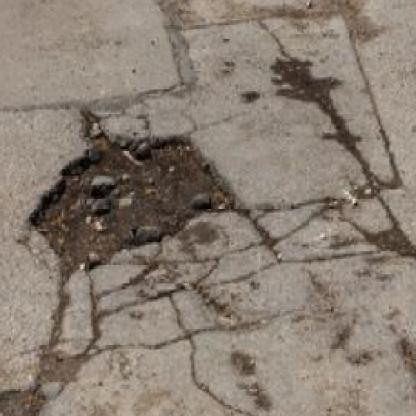pothole: (27, 110, 244, 274)
